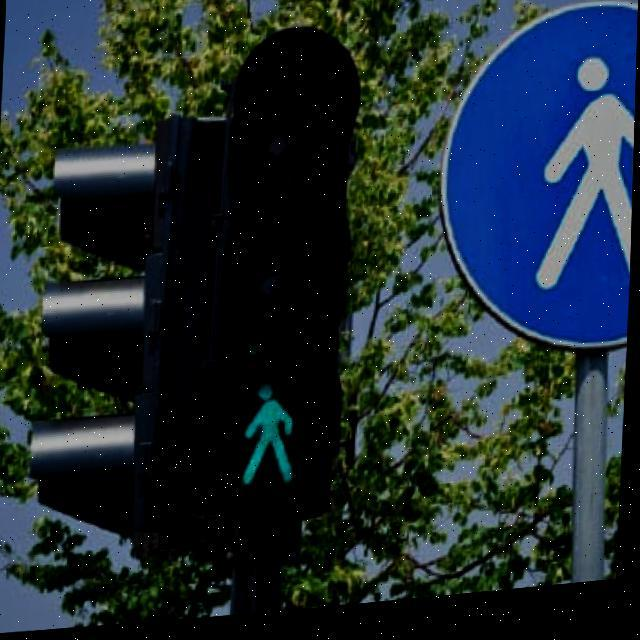green_light: (229, 387, 309, 505)
